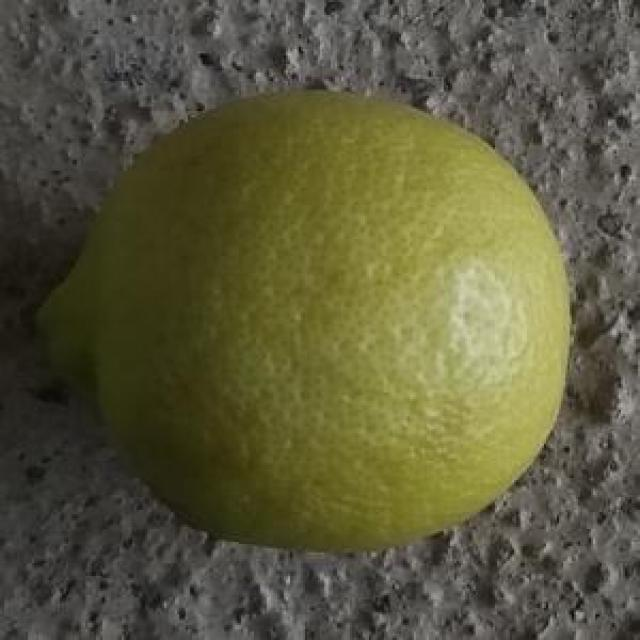lemon: (31, 81, 577, 546)
